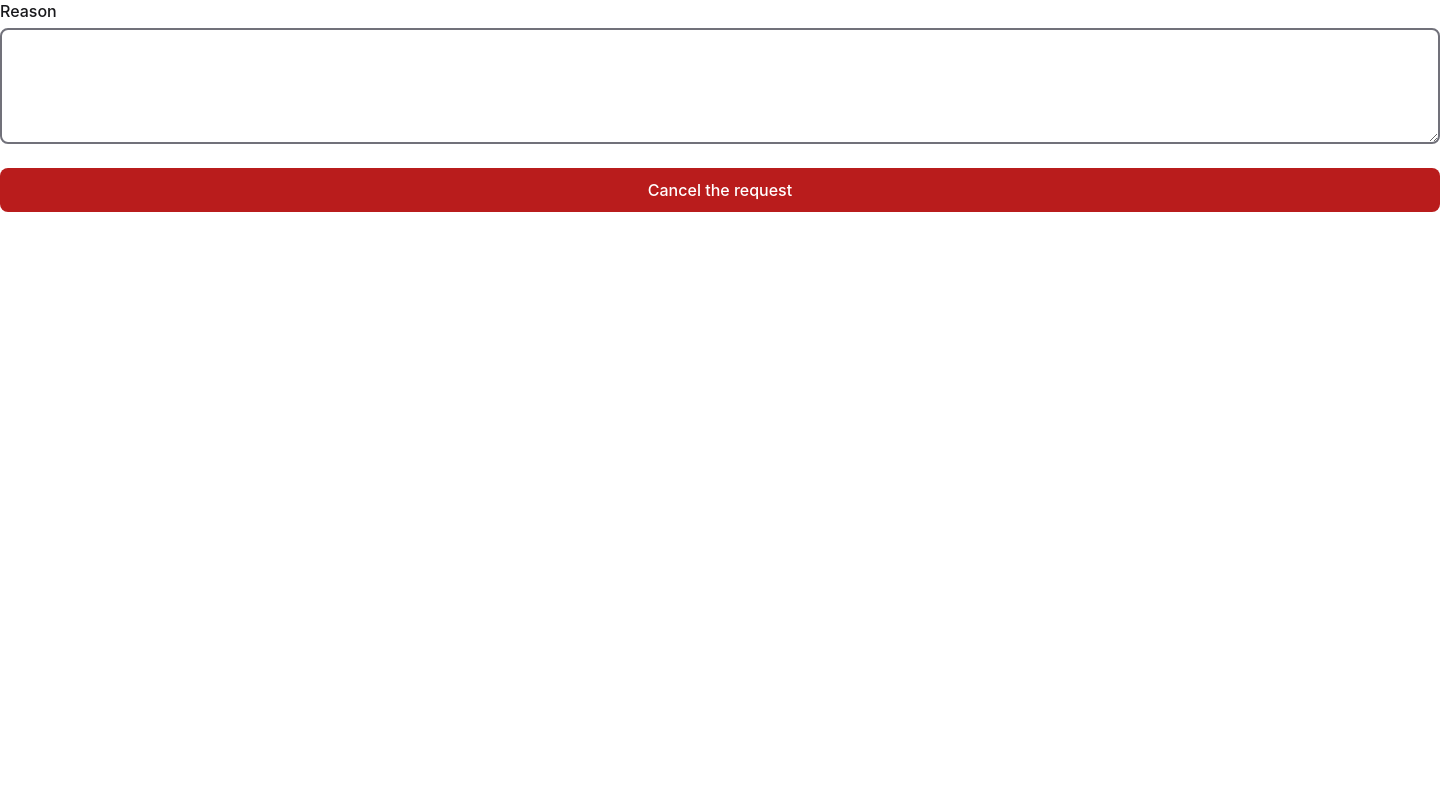
Test case: ConfirmDialog › [IHM-62] asks its question in a dialog named by it, the focus on the button that does nothing
Click the button "Cancel the request".
click(720, 190)  # box [0,168,1439,212]
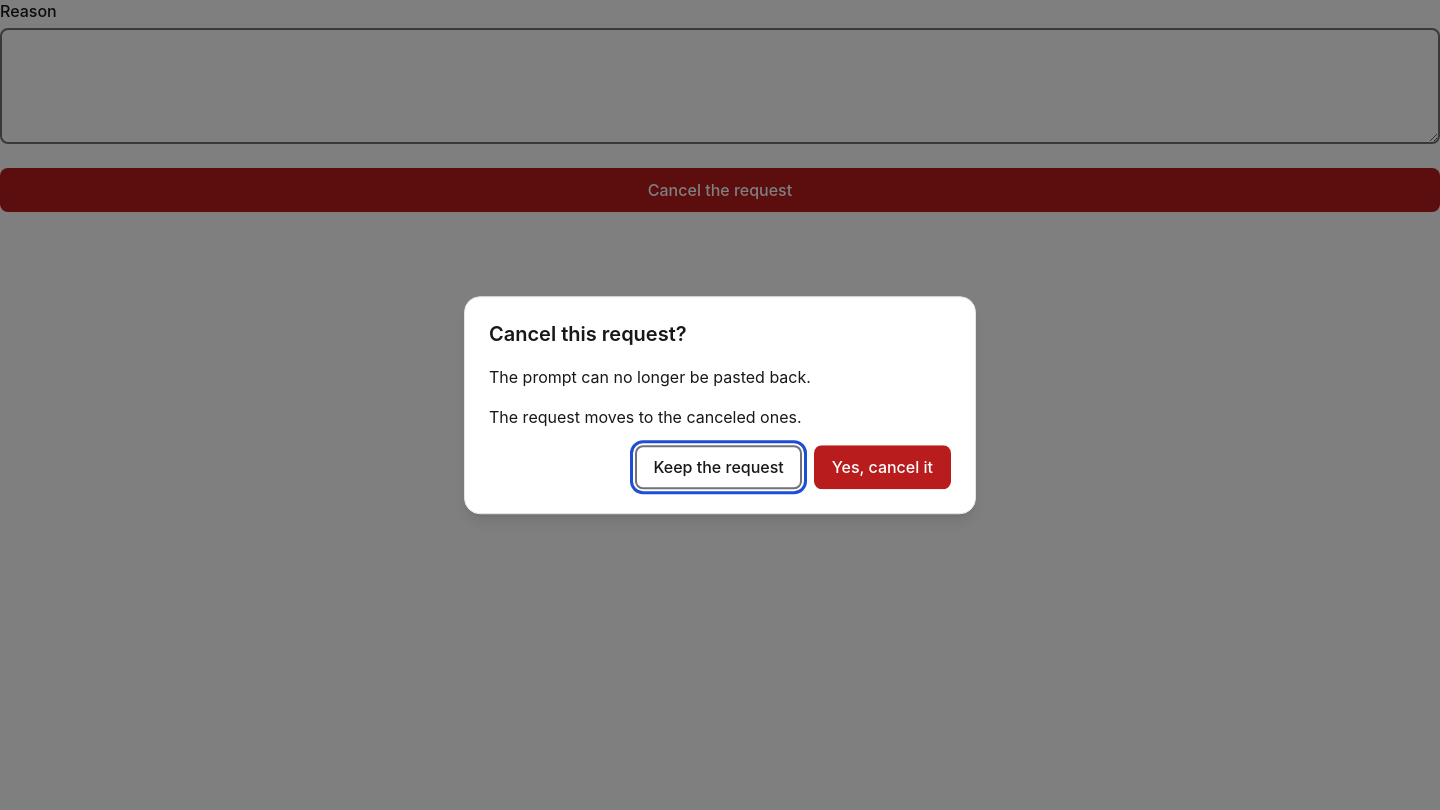
Check: the text "The request moves to the canceled ones." is shown, box [489,407,802,427]
